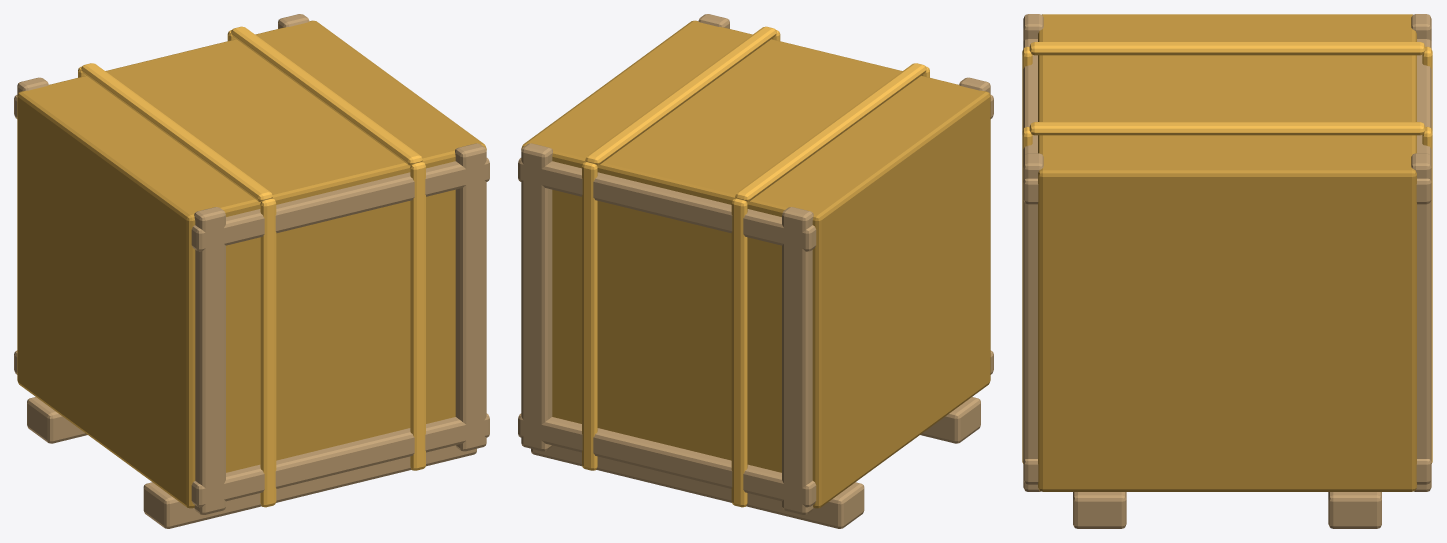
Rendered from freight_second.glb.
3 renders of one model, left to right at view 1: azimuth 30°, elevation 25°; view 2: azimuth 150°, elevation 25°; view 3: azimuth 270°, elevation 25°, orthographic. The views are drawn at different scales.
Visible parts, largest first — view 1: Freight_second; view 2: Freight_second; view 3: Freight_second.
Part boxes in pixels (left/top/right/bottom): Freight_second: left=14, top=14, right=489, bottom=528; Freight_second: left=518, top=14, right=993, bottom=528; Freight_second: left=1022, top=14, right=1432, bottom=528.
Bounding box in the file's own units: 0.96 × 0.9725 × 0.995.
